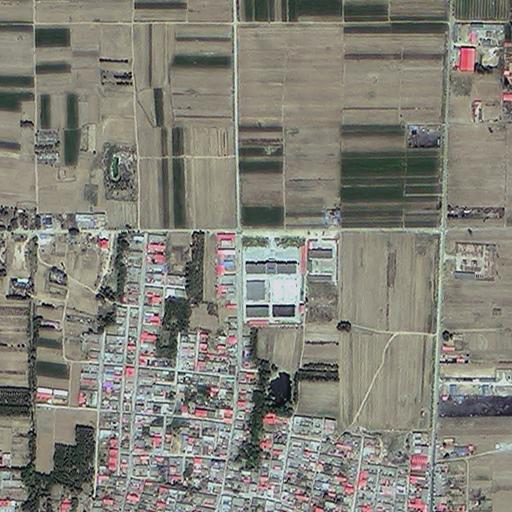school: (237, 232, 302, 322)
